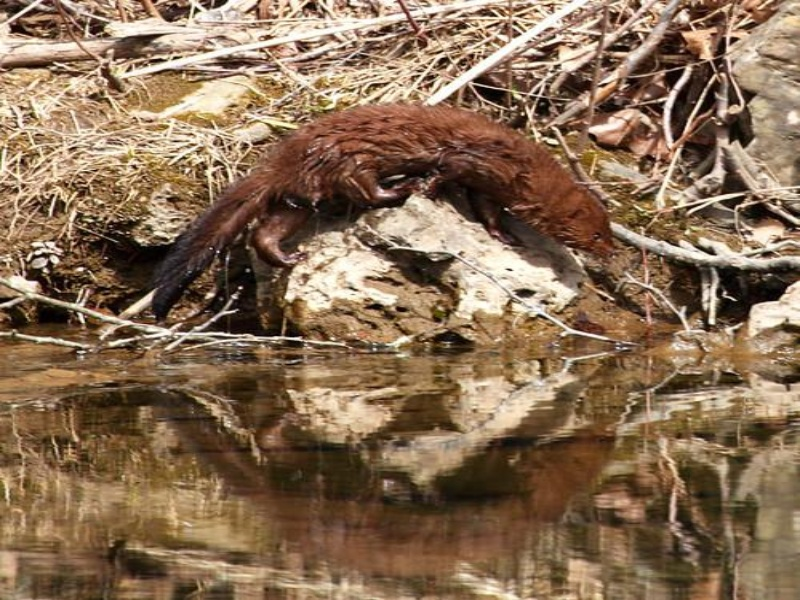minkish: (149, 102, 613, 324)
